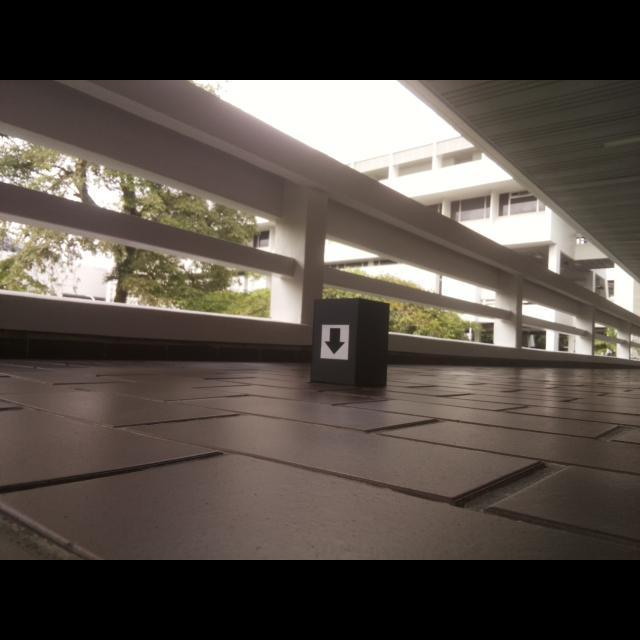DOWN: (324, 328, 346, 355)
